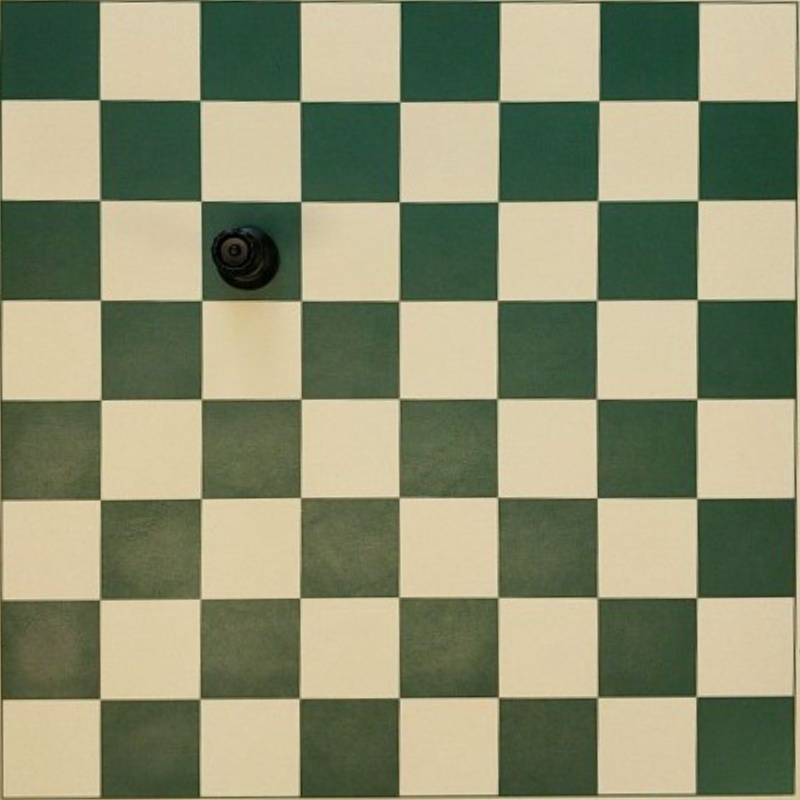black-queen: (211, 226, 279, 290)
